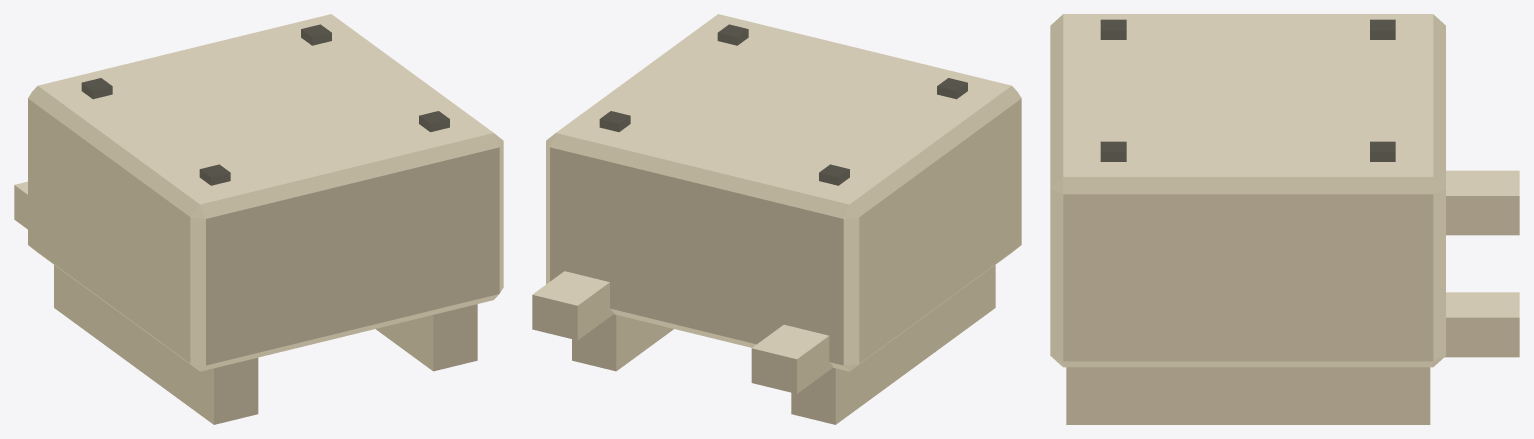
File: ERA_M4_SHOULDER_R_2_2.glb
The picture shows the model from 3 angles, left to right: view 1: azimuth 30°, elevation 25°; view 2: azimuth 150°, elevation 25°; view 3: azimuth 270°, elevation 25°; orthographic projection. The views are drawn at different scales.
Visible parts, largest first — view 1: ERA_M4_SHOULDER_R_2_2.001; view 2: ERA_M4_SHOULDER_R_2_2.001; view 3: ERA_M4_SHOULDER_R_2_2.001.
Boxes of the visible parts, x1=… form: ERA_M4_SHOULDER_R_2_2.001: x1=14, y1=14, x2=503, y2=424; ERA_M4_SHOULDER_R_2_2.001: x1=532, y1=14, x2=1021, y2=424; ERA_M4_SHOULDER_R_2_2.001: x1=1050, y1=14, x2=1519, y2=424.
Size of the model in its own units: 0.255 by 0.1815 by 0.2905.
